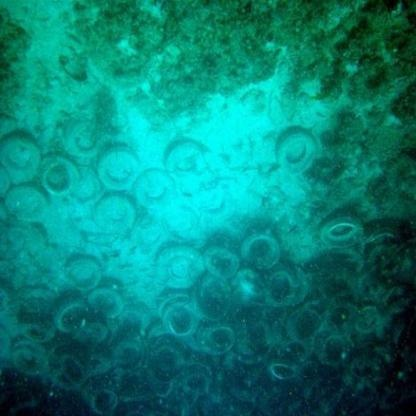tire: (90, 136, 144, 201), (153, 240, 212, 298), (273, 124, 320, 178), (162, 140, 212, 187), (99, 193, 146, 241), (244, 226, 289, 274), (41, 150, 84, 196)
